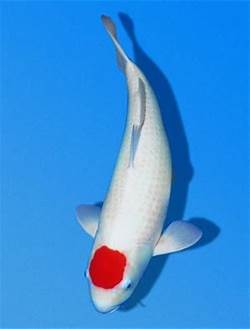sun: (73, 15, 203, 313)
